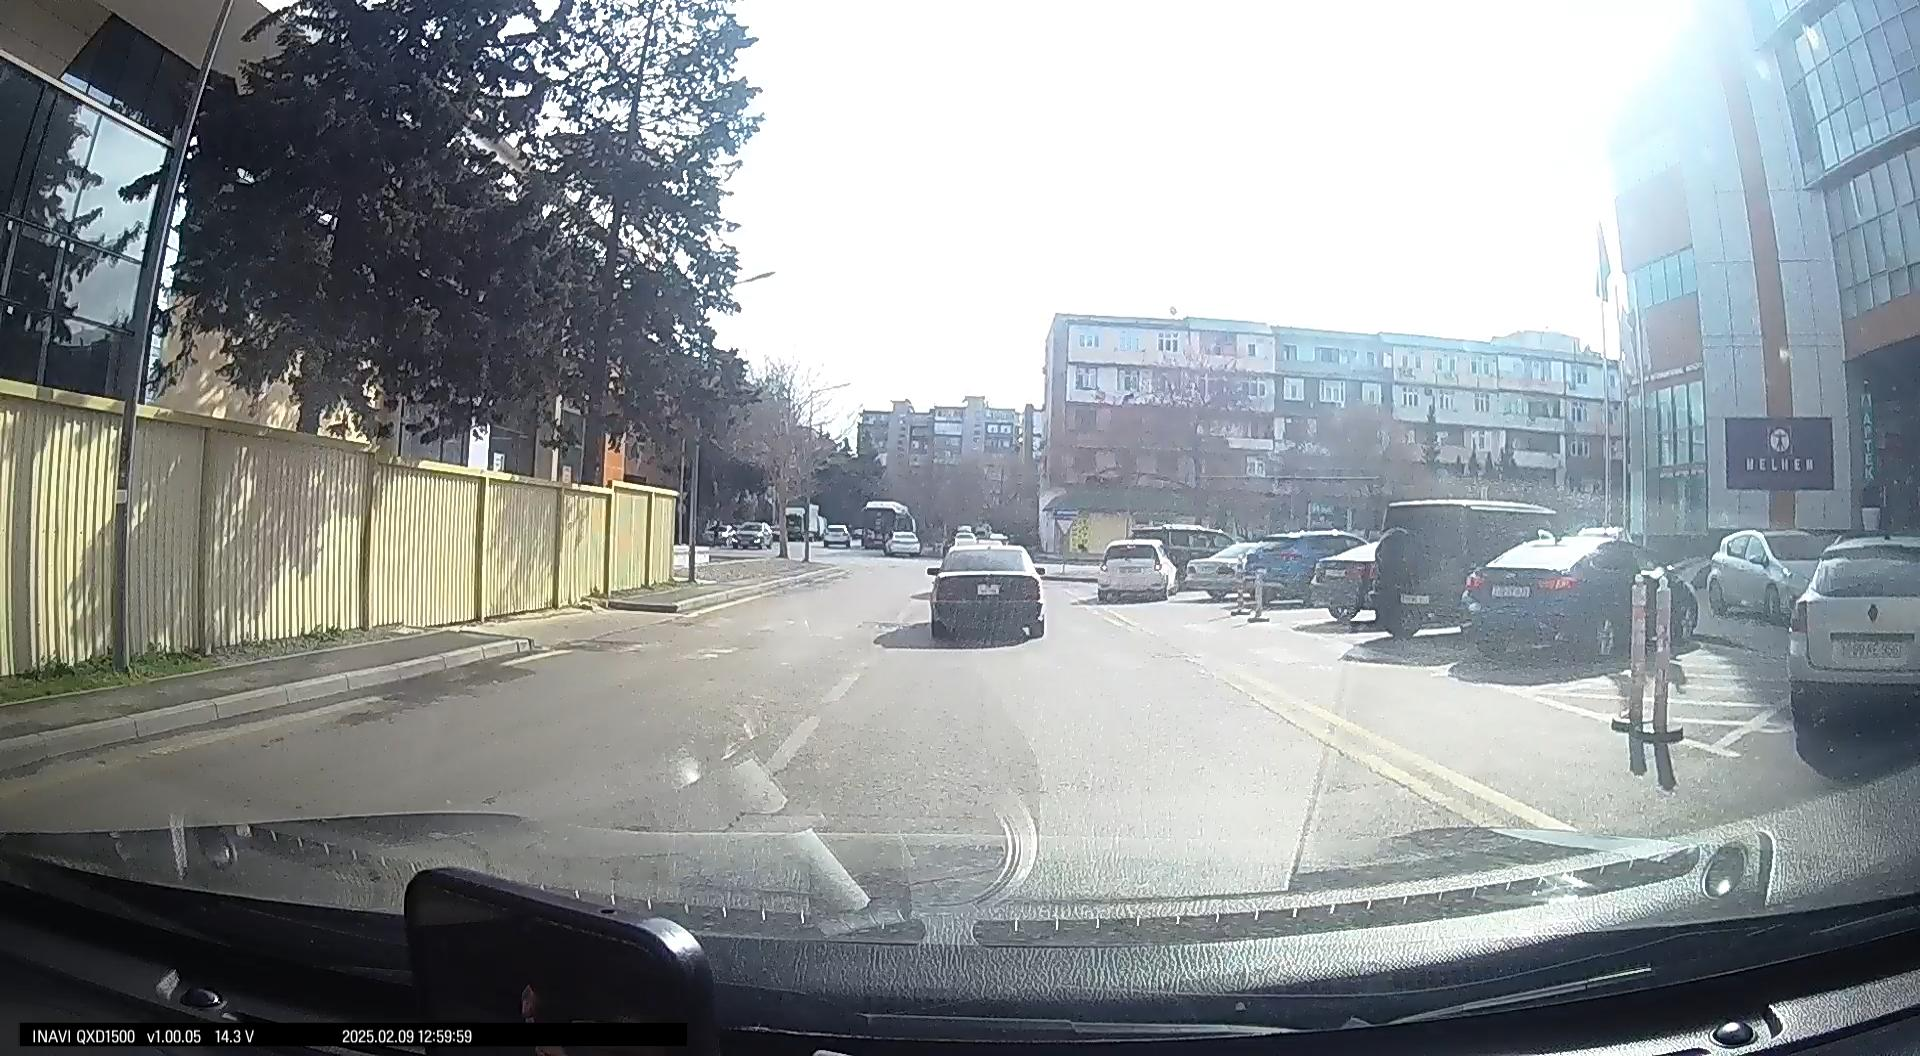banner: (1720, 415, 1846, 490)
